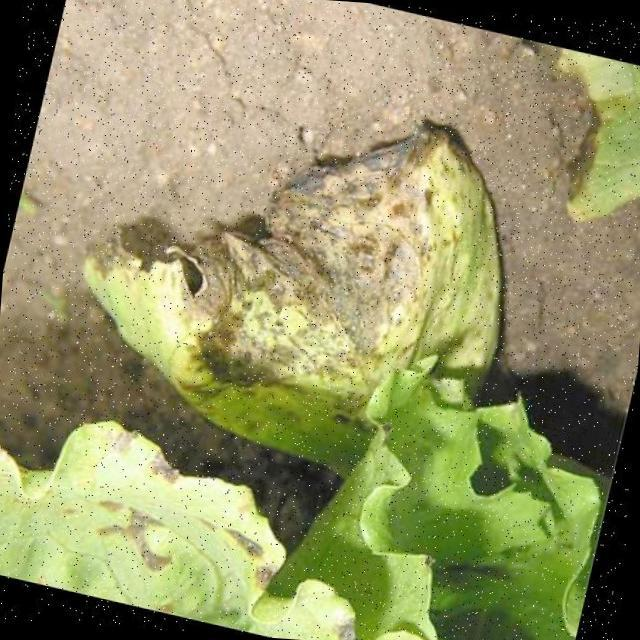Septoria_Blight: (0, 406, 308, 633), (203, 170, 447, 441)
